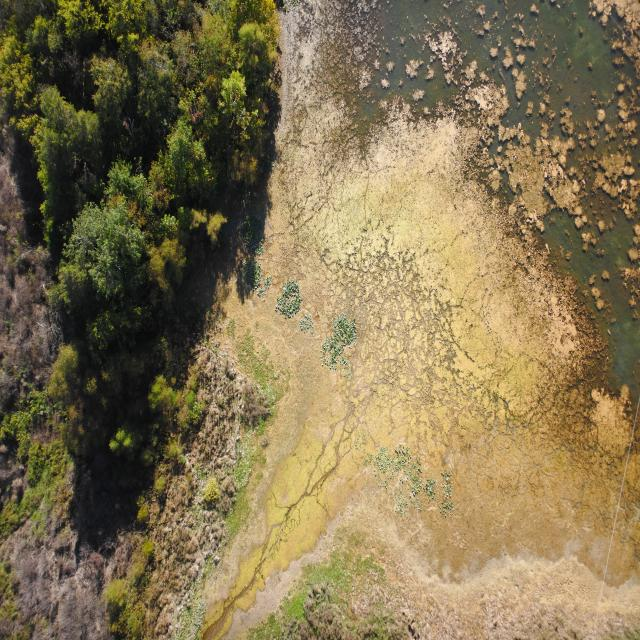Area of Interest: (1, 10, 274, 455)
